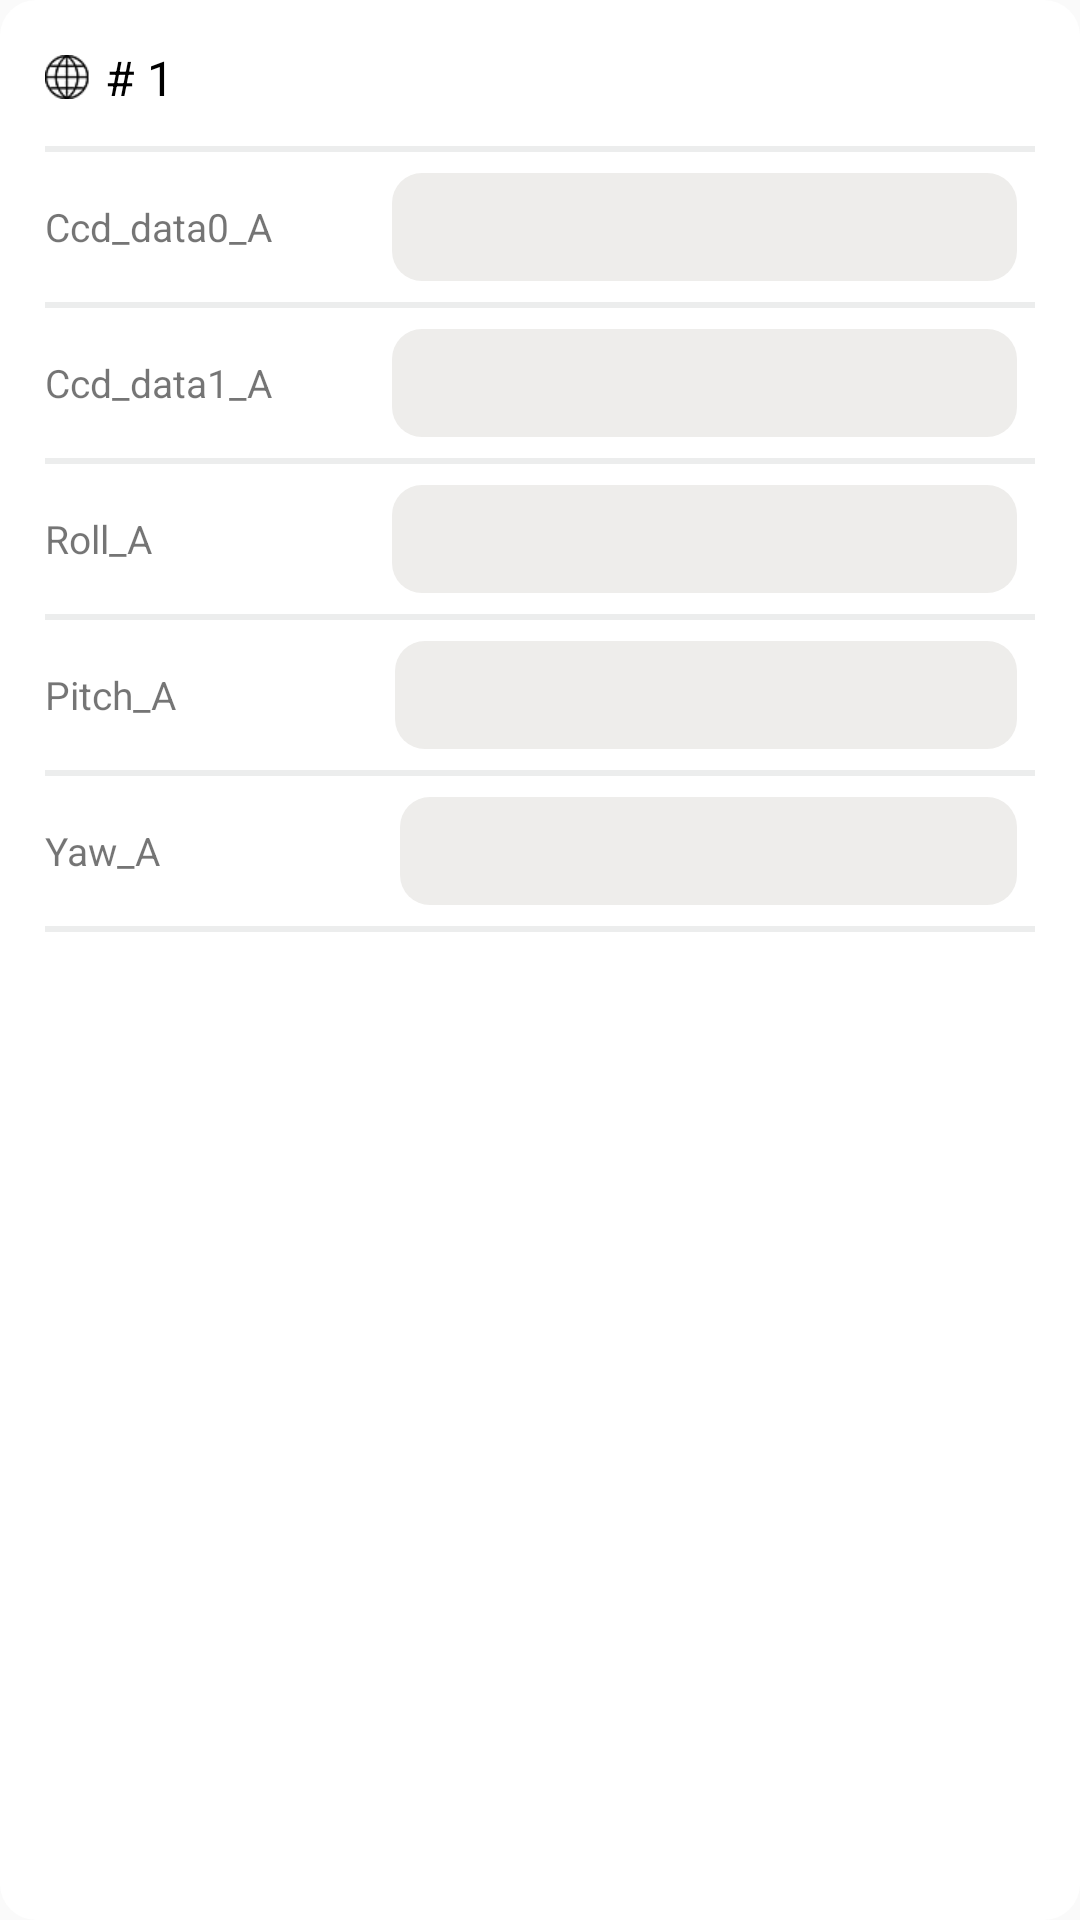

Locate icon controls on the screen. Image size 1080px×1920px, boxes as box=[x1, y1, x2, y2].
qiu: box=[45, 55, 89, 99]
